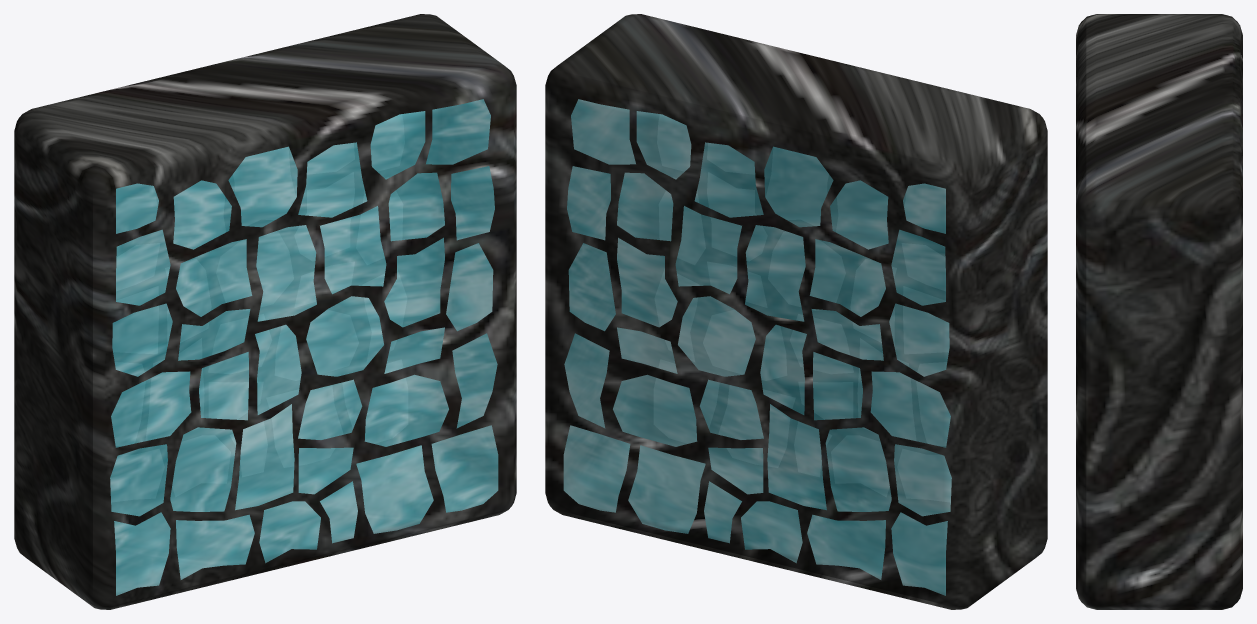
The model's file is iceDoor5.fbx.
3 renders of one model, left to right at view 1: azimuth 30°, elevation 25°; view 2: azimuth 150°, elevation 25°; view 3: azimuth 270°, elevation 25°, orthographic. The views are drawn at different scales.
Parts seen in each view (by area): view 1: metal, pCube1; view 2: metal, pCube1; view 3: metal.
Boxes of the visible parts, x1=… form: metal: x1=14, y1=14, x2=516, y2=609; pCube1: x1=110, y1=99, x2=498, y2=595; metal: x1=545, y1=14, x2=1047, y2=609; pCube1: x1=563, y1=99, x2=951, y2=595; metal: x1=1076, y1=14, x2=1242, y2=609.
Size of the model in its own units: 11.18 by 11.18 by 4.07.
